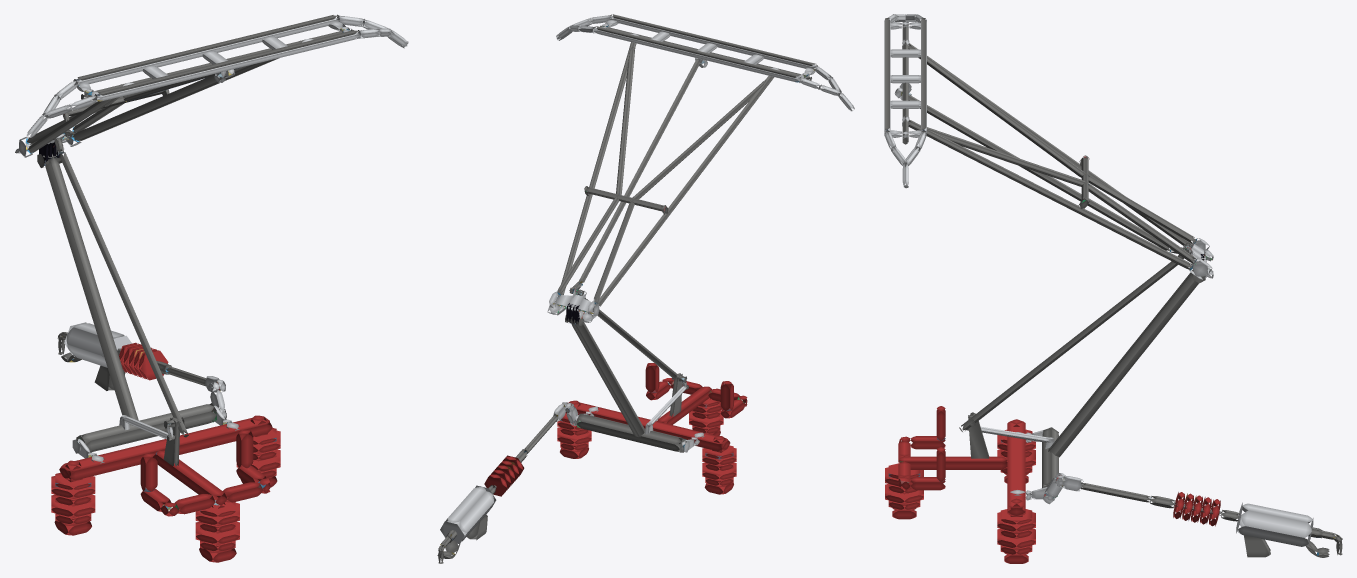
Rendered from ss8_pantograph_up.obj.
3 renders of one model, left to right at view 1: azimuth 30°, elevation 25°; view 2: azimuth 150°, elevation 25°; view 3: azimuth 270°, elevation 25°, orthographic. The views are drawn at different scales.
Parts seen in each view (by area): view 1: ss8_pantograph_selection_selection_selection; view 2: ss8_pantograph_selection_selection_selection; view 3: ss8_pantograph_selection_selection_selection.
Boxes of the visible parts, <box> form: ss8_pantograph_selection_selection_selection: <box>15,14,408,562</box>; ss8_pantograph_selection_selection_selection: <box>437,14,854,563</box>; ss8_pantograph_selection_selection_selection: <box>884,14,1342,563</box>.
Size of the model in its own units: 2 by 2.51 by 2.36.
